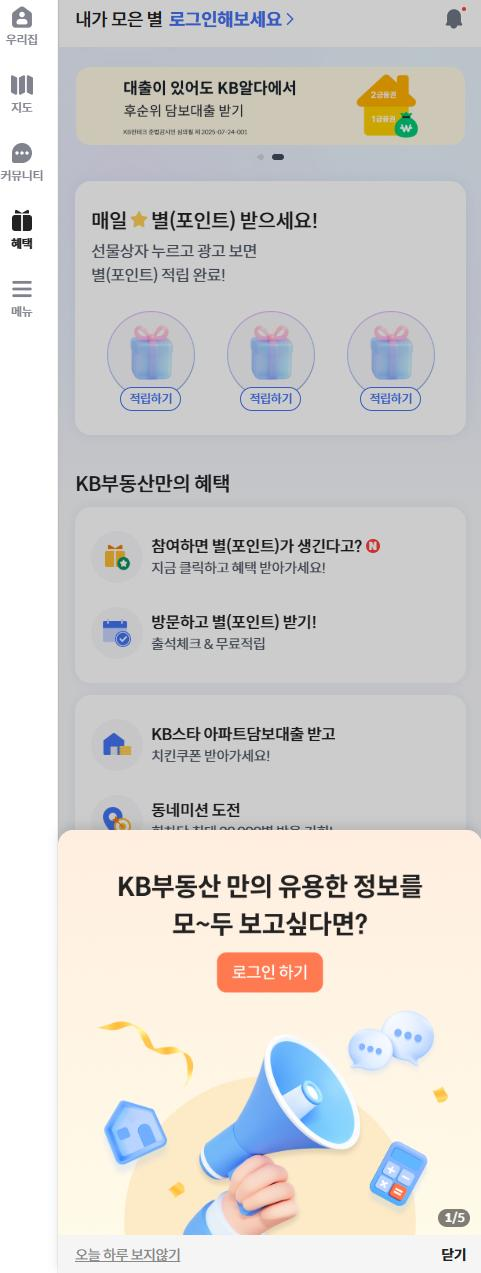button: (224, 301, 326, 417), (346, 301, 446, 413), (104, 308, 201, 413), (70, 4, 300, 38), (216, 948, 328, 994), (71, 1239, 192, 1268), (1, 136, 54, 191), (0, 66, 52, 121), (2, 202, 52, 255), (3, 3, 52, 55), (5, 277, 49, 331), (436, 3, 477, 36), (438, 1242, 474, 1266)
popup: (54, 826, 481, 1273), (76, 67, 467, 145)
